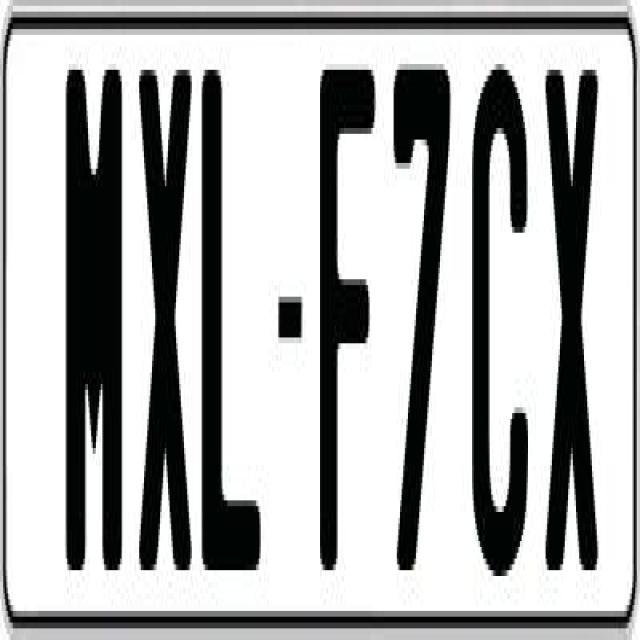7: (394, 70, 456, 576)
C: (468, 64, 532, 582)
F: (318, 58, 373, 582)
L: (200, 52, 261, 564)
M: (62, 52, 128, 582)
X: (138, 58, 194, 564), (542, 64, 598, 570)
